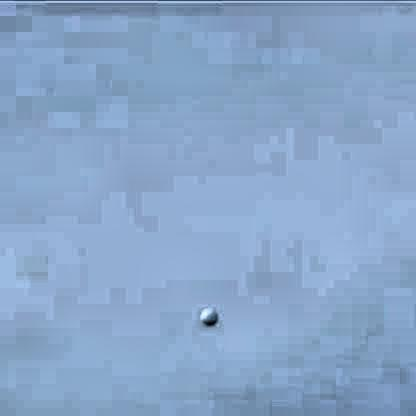golfball: (197, 304, 216, 323)
